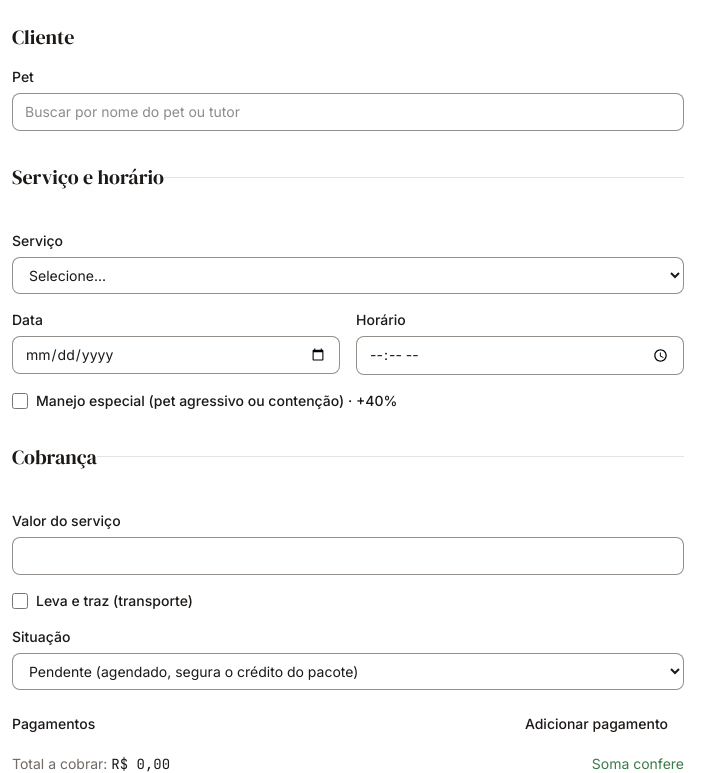
Test case: AtendimentoForm › pet com pacote saldo 0 cai em avulso com aviso
Type "Luna" into the dropdown labelled "Pet".
click(348, 112); type("Luna")  # box [12, 93, 684, 131]
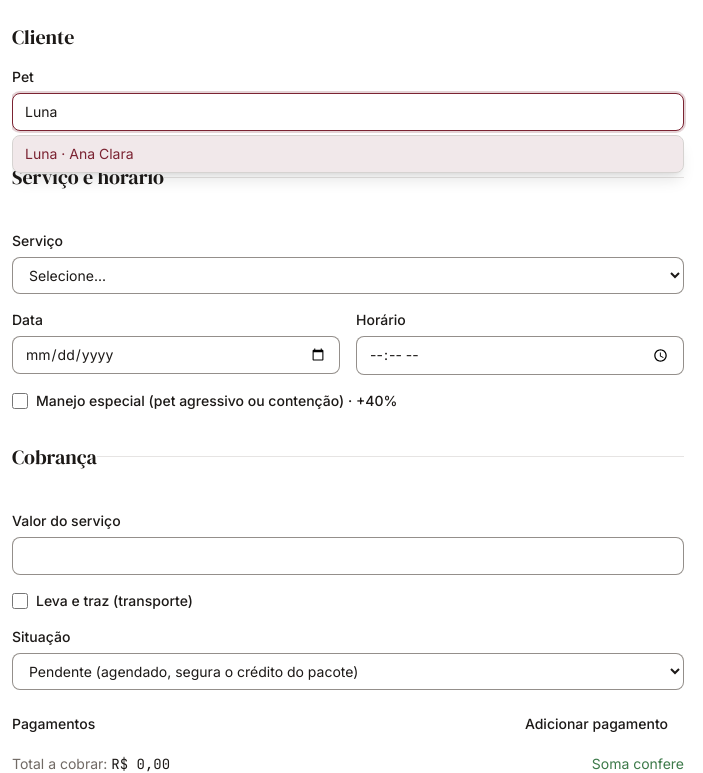
Now the option "Luna · Ana Clara" is shown
Click the option "Luna · Ana Clara".
click(79, 154)  # box [13, 136, 683, 172]
(page scrolled)
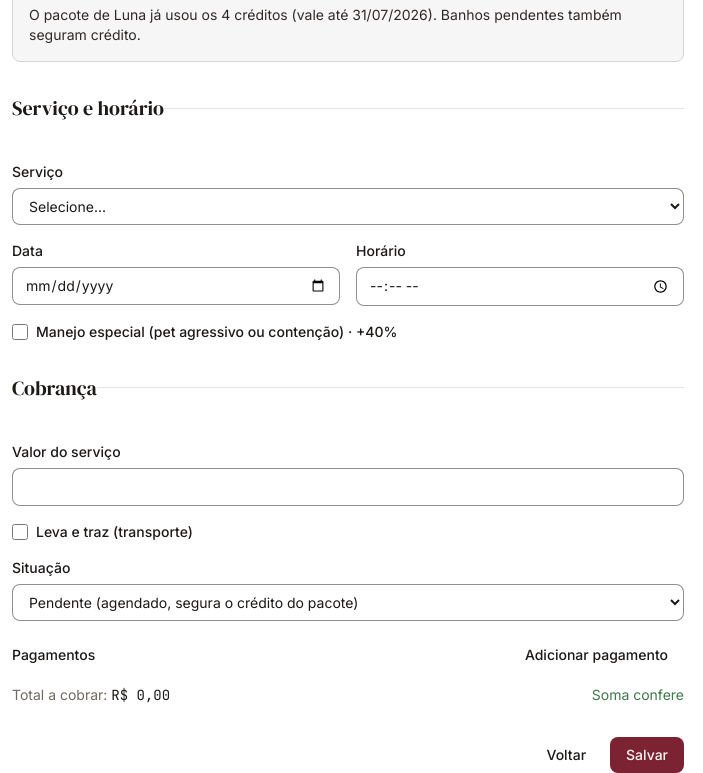
Expected: the button "Adicionar pagamento" is shown, [509, 637, 684, 673]
Now the text "já usou os 4 créditos" is shown, box [29, 5, 667, 45]
